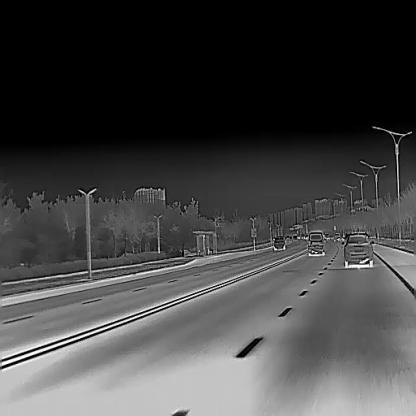car: (341, 231, 375, 266), (308, 230, 325, 254), (273, 235, 286, 249), (333, 233, 340, 241), (325, 233, 330, 240), (303, 234, 308, 240), (296, 235, 300, 239), (300, 236, 304, 239)
